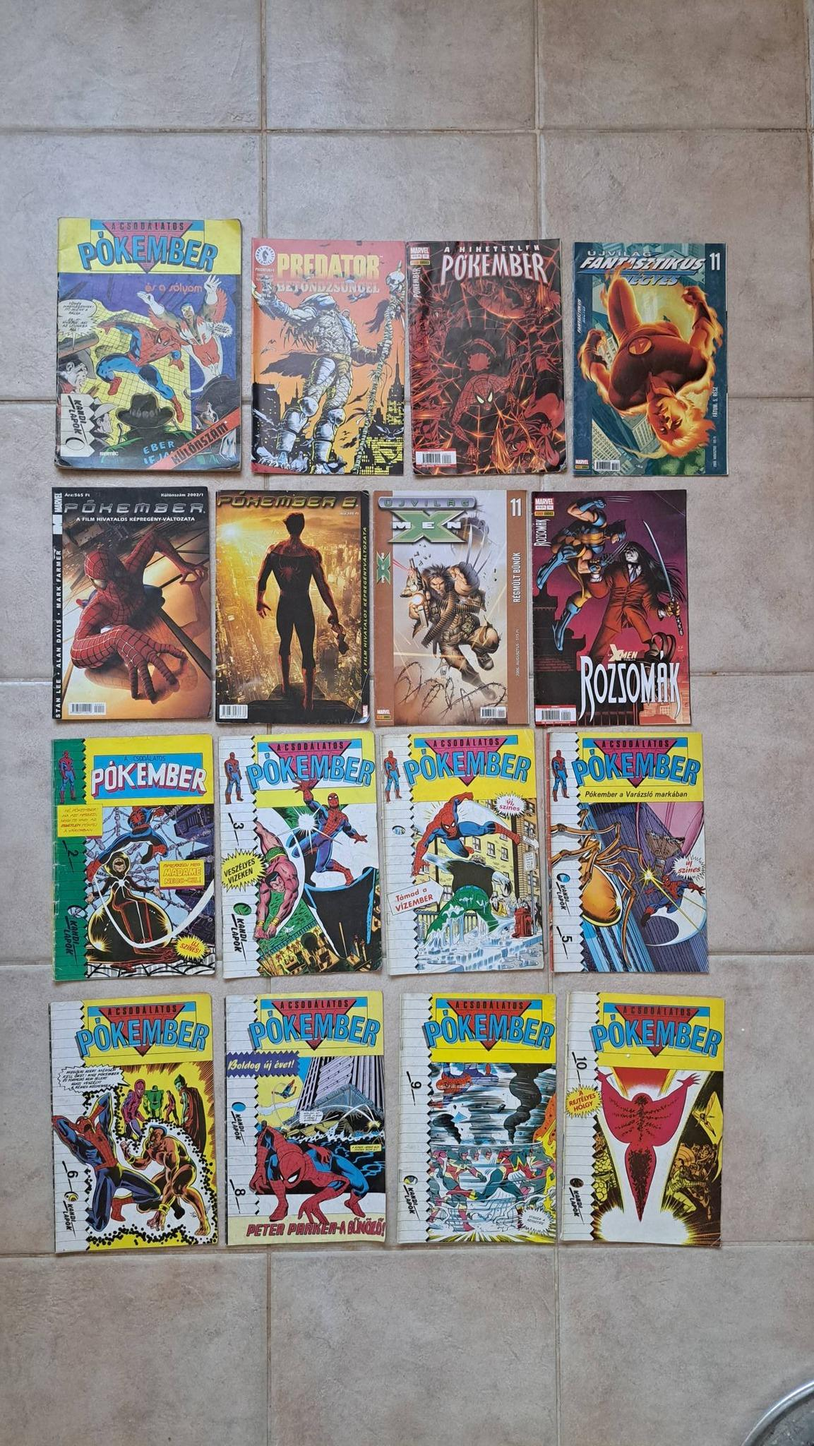comic: (56, 217, 242, 471), (51, 994, 217, 1252), (562, 993, 726, 1246), (49, 734, 215, 980), (381, 727, 545, 975), (219, 730, 381, 978), (227, 991, 385, 1244), (398, 993, 556, 1244), (547, 727, 707, 974), (531, 490, 690, 728), (408, 239, 566, 476), (53, 486, 212, 721), (373, 487, 527, 728), (252, 238, 405, 475), (573, 242, 727, 476), (217, 489, 369, 725)
